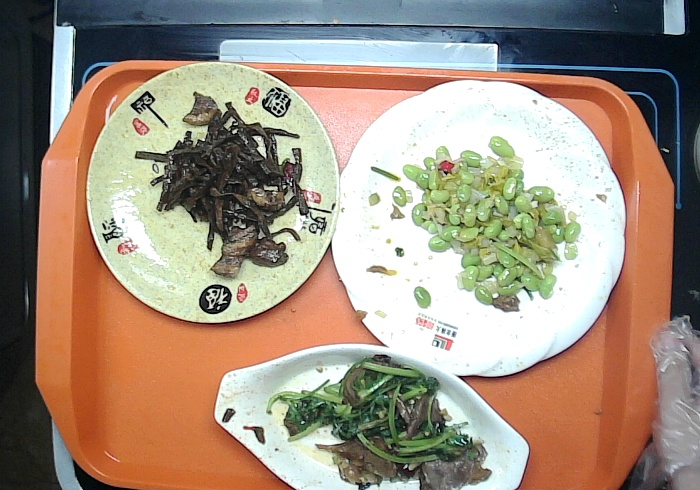NLDX-Bai_Zhe_Yuan_Pan: (329, 77, 631, 381)
NLDX-Fu_Zi_Yuan_Pan: (79, 58, 343, 330)
NLDX-Yu_Pan: (207, 338, 534, 488)
